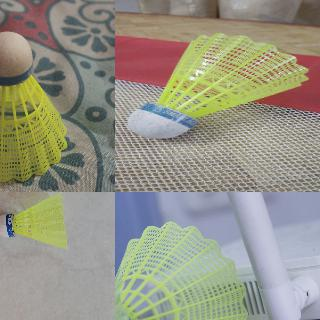shuttlecock: (126, 33, 308, 140), (115, 221, 248, 319), (0, 32, 68, 183), (0, 192, 68, 250)
